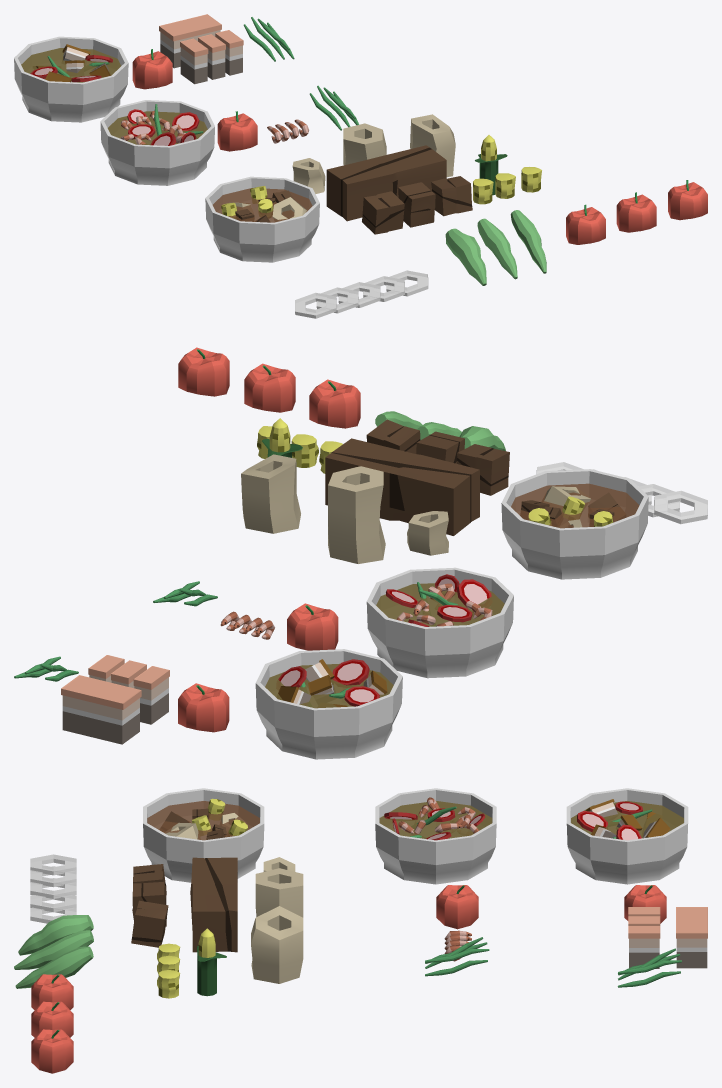
Rendered from ALLTYPESOFFOOD.fbx.
The picture shows the model from 3 angles, top to bottom: view 1: azimuth 30°, elevation 25°; view 2: azimuth 150°, elevation 25°; view 3: azimuth 270°, elevation 25°; orthographic projection. The views are drawn at different scales.
Visible parts, largest first — view 1: pCylinder40, pCylinder1, pCylinder20, pCube10, pPipe2, pCube6, pCube12, pPipe1, pCube13, pCube11, pCylinder15, pCylinder5 (+20 smaller); view 2: pCylinder40, pCylinder20, pCylinder1, pCube10, pPipe1, pCube6, pPipe2, pCylinder52, pCylinder53, pCylinder5, pCylinder51, pCylinder15 (+12 smaller); view 3: pCylinder20, pCylinder1, pCylinder40, pCube10, pPipe2, pPipe1, pCube6, pCylinder53, pCylinder15, pCube13, pCylinder48, pCylinder41 (+14 smaller).
Part boxes in pixels (box(x1,y1,x2,y2)): pCylinder40: box(205, 176, 319, 262); pCylinder1: box(14, 36, 128, 122); pCylinder20: box(100, 100, 214, 185); pCube10: box(326, 145, 446, 221); pPipe2: box(410, 114, 455, 177); pCube6: box(159, 14, 221, 68); pCube12: box(362, 191, 404, 234); pPipe1: box(343, 123, 386, 165); pCube13: box(431, 176, 472, 216); pCube11: box(398, 182, 435, 227); pCylinder15: box(217, 111, 257, 151); pCylinder5: box(132, 49, 172, 89); pCylinder40: box(501, 469, 648, 579); pCylinder20: box(366, 567, 513, 678); pCylinder1: box(255, 649, 402, 759); pCube10: box(325, 438, 479, 535); pPipe1: box(328, 466, 385, 563); pCube6: box(61, 675, 141, 744); pPipe2: box(241, 454, 300, 533); pCylinder52: box(244, 363, 295, 412); pCylinder53: box(178, 347, 229, 396); pCylinder5: box(178, 683, 229, 732); pCylinder51: box(309, 379, 360, 428); pCylinder15: box(287, 603, 338, 650); pCylinder20: box(375, 788, 496, 884); pCylinder1: box(566, 788, 688, 884); pCylinder40: box(143, 788, 264, 882); pCube10: box(190, 857, 237, 952); pPipe2: box(251, 906, 303, 983); pPipe1: box(255, 868, 303, 917); pCube6: box(676, 907, 707, 968); pCylinder53: box(31, 1029, 73, 1073); pCylinder15: box(436, 885, 478, 929); pCube13: box(131, 900, 168, 947); pCylinder48: box(18, 915, 93, 955); pCylinder41: box(197, 928, 226, 996).
Bounding box in the file's own units: 9.94 × 1.6 × 12.71.
